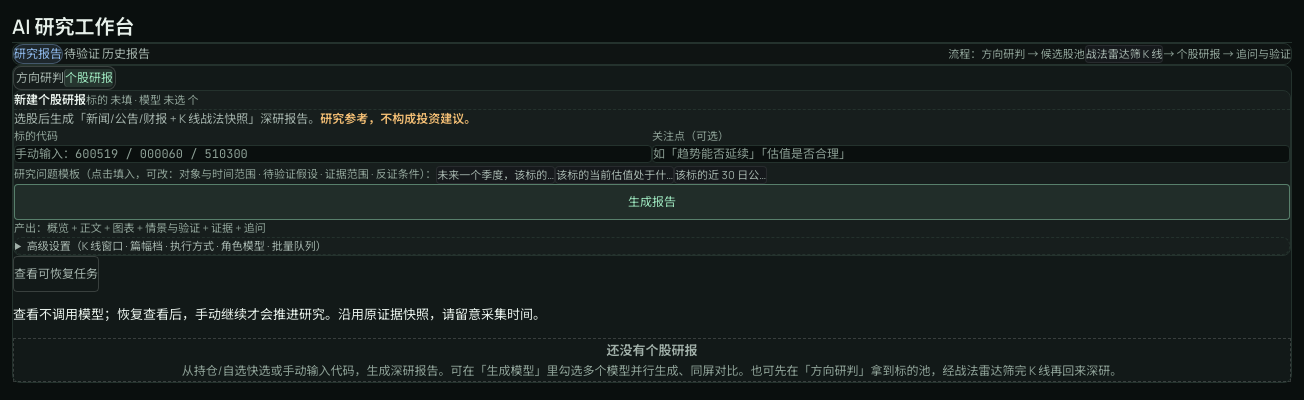
研究工作台 历史产出区（A04/D02） › 历史分区列出落库产出并按 kind 标注，计数口径分开
Click the tab "历史报告" at x=126, y=54, box [101,44,151,64]
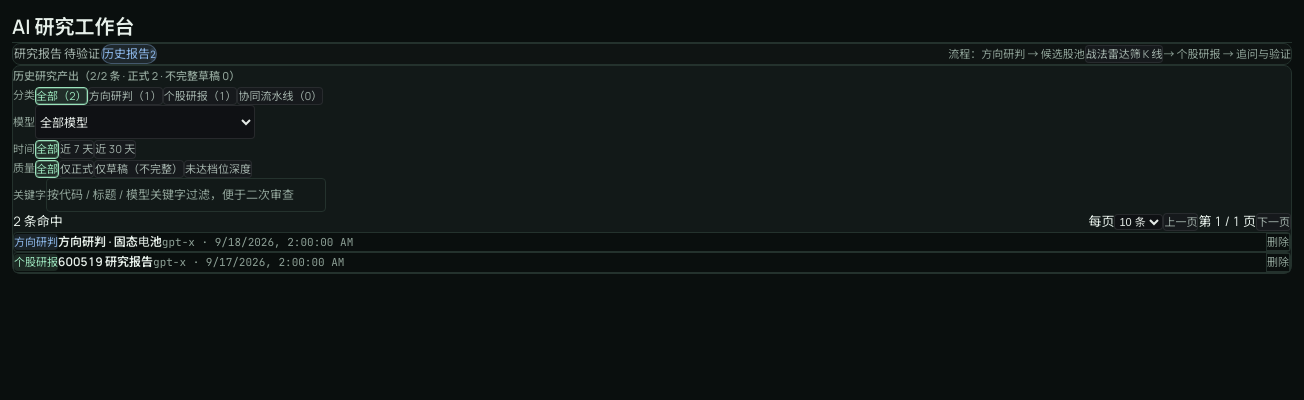
Check: the text "600519 研究报告" is shown, box [58,253,153,271]
Check: the text "方向研判 · 固态电池" is shown, box [58,233,162,251]
Check: the element with class "wb-history" shows "历史研究产出（2/2 条 · 正式 2 · 不完整草稿 0", box [12,65,1292,274]
